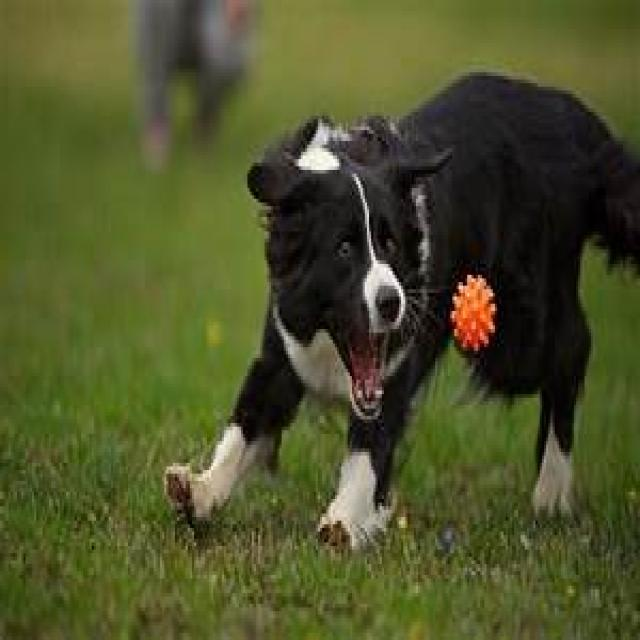animal: (171, 68, 640, 549)
